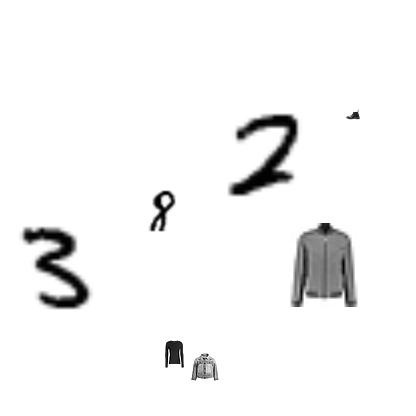2: (209, 95, 321, 207)
3: (0, 208, 112, 320)
8: (133, 181, 189, 237)
Ankle_boot: (346, 107, 360, 121)
Coat: (282, 223, 366, 307), (191, 353, 219, 381)
Pullover: (160, 340, 188, 368)
